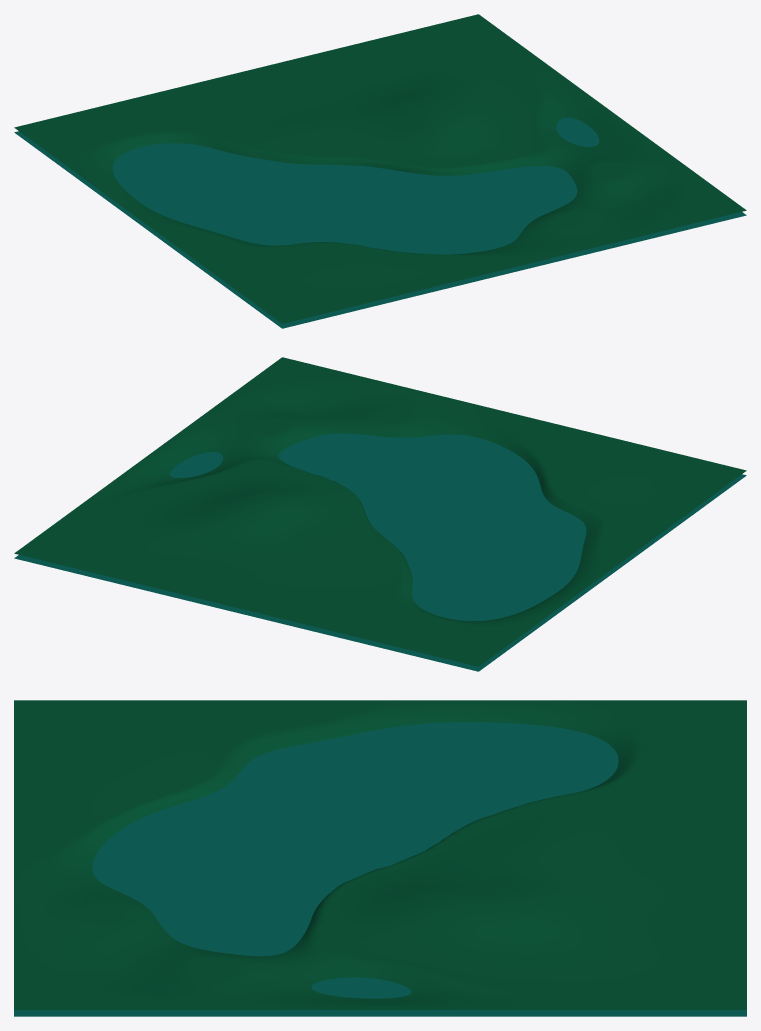
Rendered from world2.dae.
The picture shows the model from 3 angles, top to bottom: view 1: azimuth 30°, elevation 25°; view 2: azimuth 150°, elevation 25°; view 3: azimuth 270°, elevation 25°; orthographic projection. The views are drawn at different scales.
Parts seen in each view (by area): view 1: Landscape.002, Landscape_plane; view 2: Landscape.002, Landscape_plane; view 3: Landscape.002, Landscape_plane.
Boxes of the visible parts, x1=… form: Landscape.002: x1=14, y1=14, x2=746, y2=323; Landscape_plane: x1=14, y1=117, x2=746, y2=328; Landscape.002: x1=14, y1=357, x2=746, y2=666; Landscape_plane: x1=14, y1=433, x2=746, y2=671; Landscape.002: x1=14, y1=700, x2=746, y2=1009; Landscape_plane: x1=14, y1=722, x2=746, y2=1016.
Bounding box in the file's own units: 2 × 2 × 0.2774.
